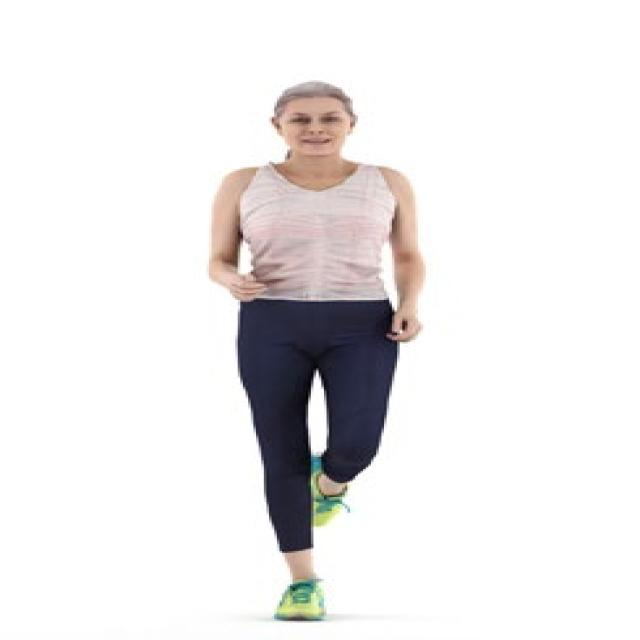running: (209, 80, 446, 640)
